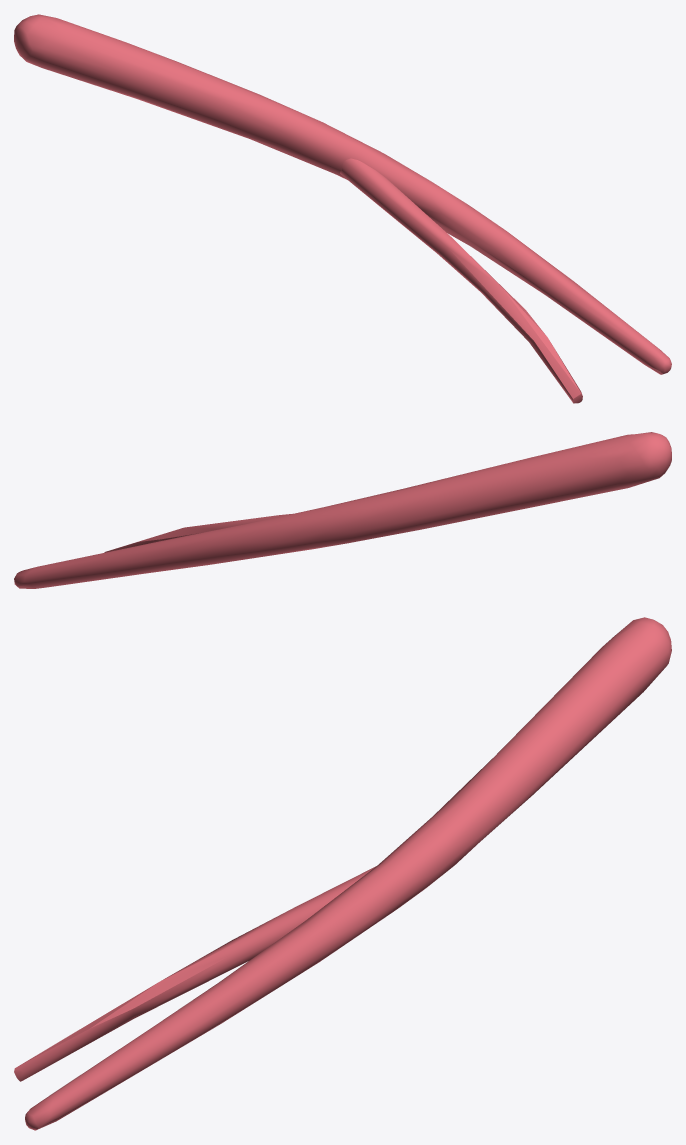
File: fma8668_cx279.glb
3 views of the same model, one above another, from view 1: azimuth 30°, elevation 25°; view 2: azimuth 210°, elevation 25°; view 3: azimuth 270°, elevation 25° (orthographic). The views are drawn at different scales.
Parts seen in each view (by area): view 1: FMA8668_CX279; view 2: FMA8668_CX279; view 3: FMA8668_CX279.
Boxes of the visible parts, x1,y1,x2,y2 form: FMA8668_CX279: (14, 14, 671, 403); FMA8668_CX279: (14, 432, 671, 588); FMA8668_CX279: (14, 617, 671, 1130).
Size of the model in its own units: 0.0501 by 0.0314 by 0.0618.
